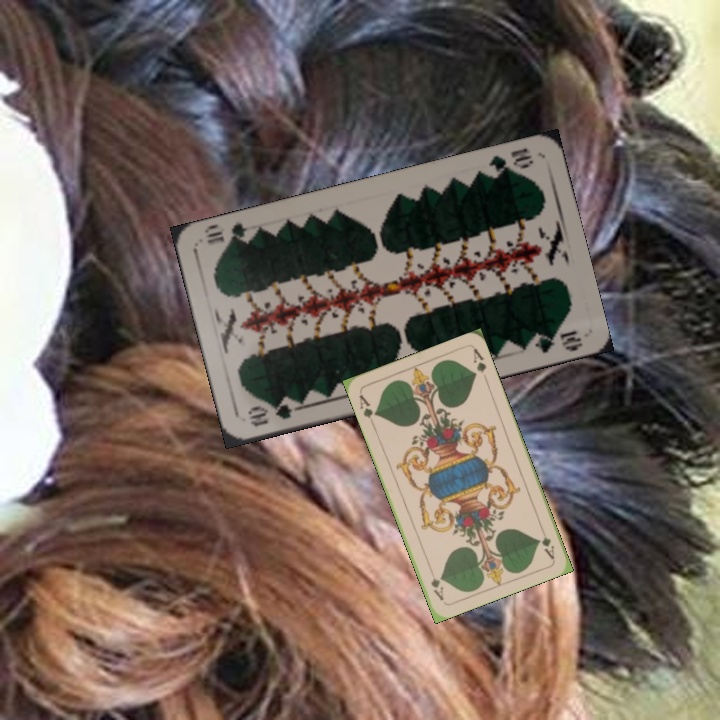G10: (481, 144, 536, 181), (243, 398, 303, 430)
GA: (355, 390, 380, 428), (536, 533, 557, 562)
